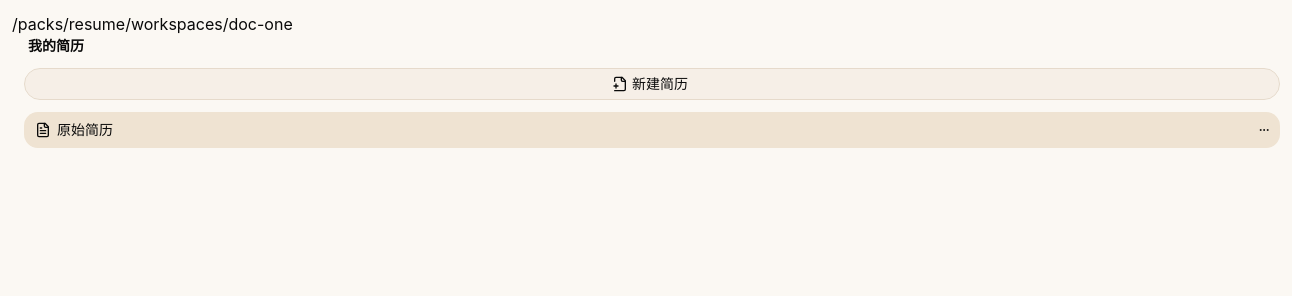
Scenario: ResumeDocumentList actions › keeps the original when its latest edits cannot be saved
This screenshot has width=1292, height=296.
Press ArrowDown in the button named "管理简历 原始简历", box [1252,118,1276,142]
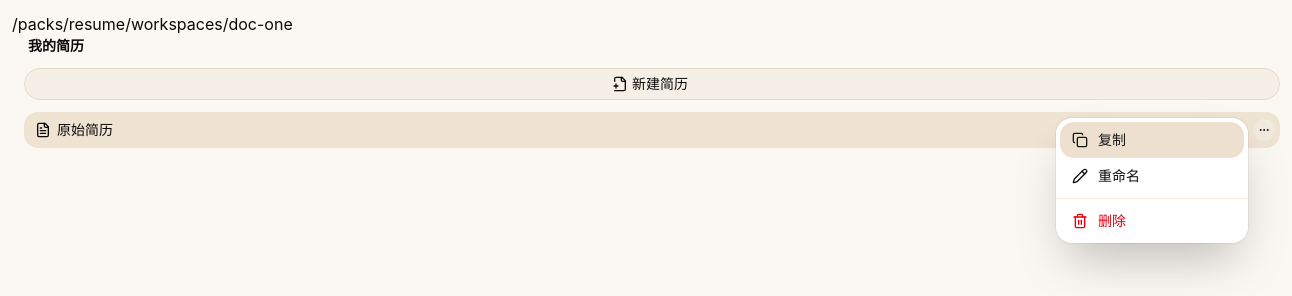
Click the menu item "复制".
click(1152, 140)  # box [1060,122,1244,158]
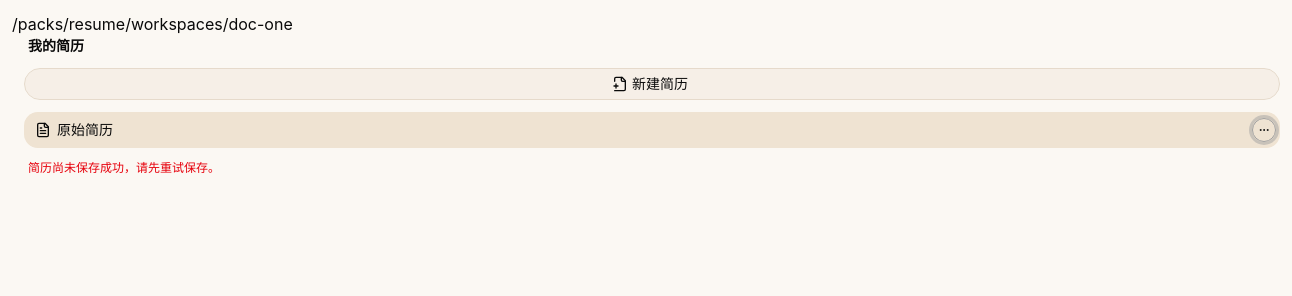
expect the text with test id "location" shows "/workspaces/doc-one": met, box [12,14,293,34]
expect the message shows "尚未保存": met, box [28,160,220,175]
